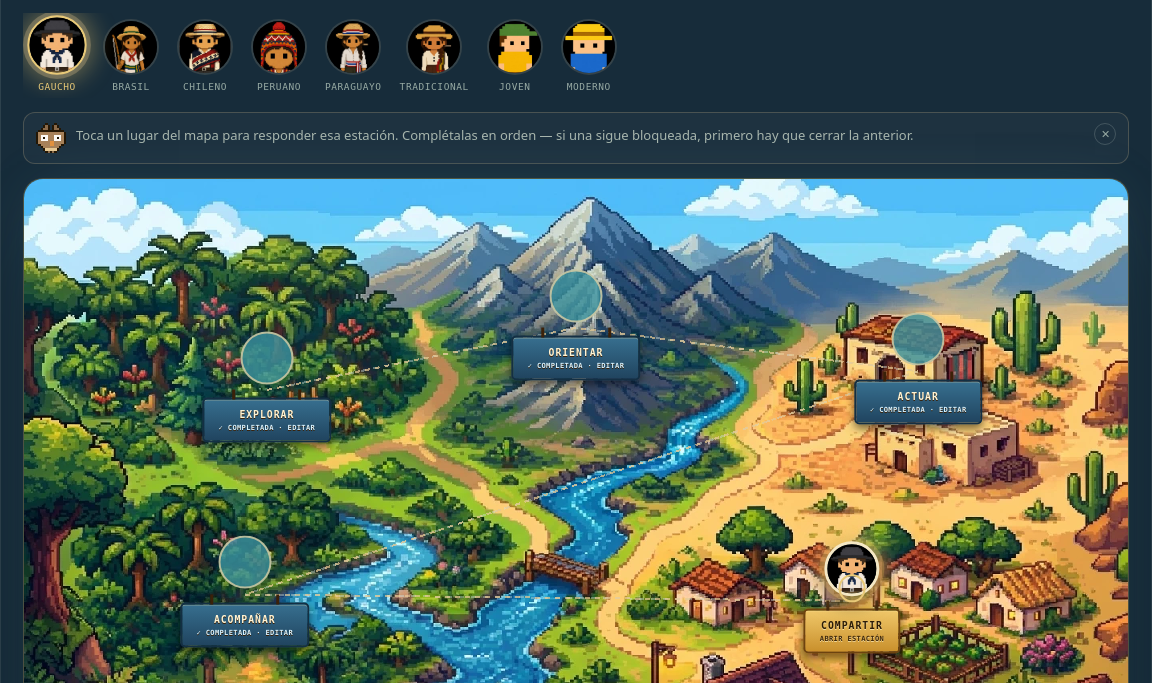
CaseForm — stations open as popups on the map, not as a list below it › opens a station's real form on the map when its hotspot is clicked, pre-filled from the saved answer
(page scrolled)
What coordinates should you click on to do the following:
click the button with aria-label "explorar en la selva"
I would click on:
 (267, 358)
Its box is [240,332,293,385].
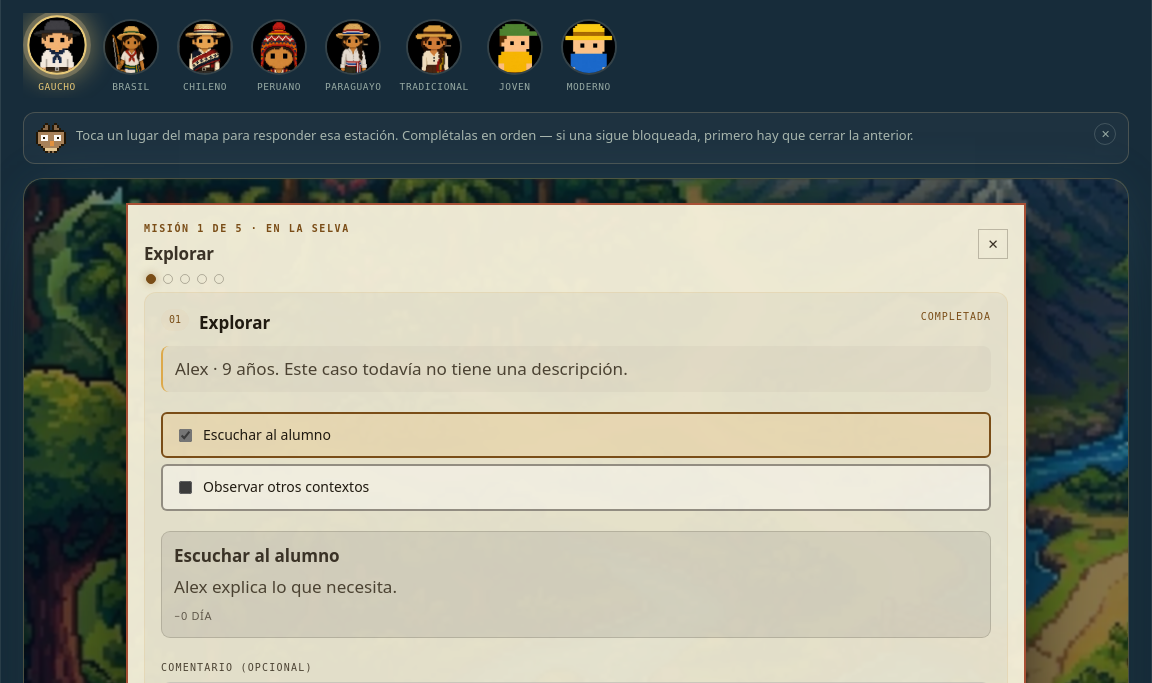
expect the text "Completada" is shown: met, box [921,310,991,326]
expect the checkbox labelled "Escuchar al alumno" is checked: met, box [179,429,192,442]
